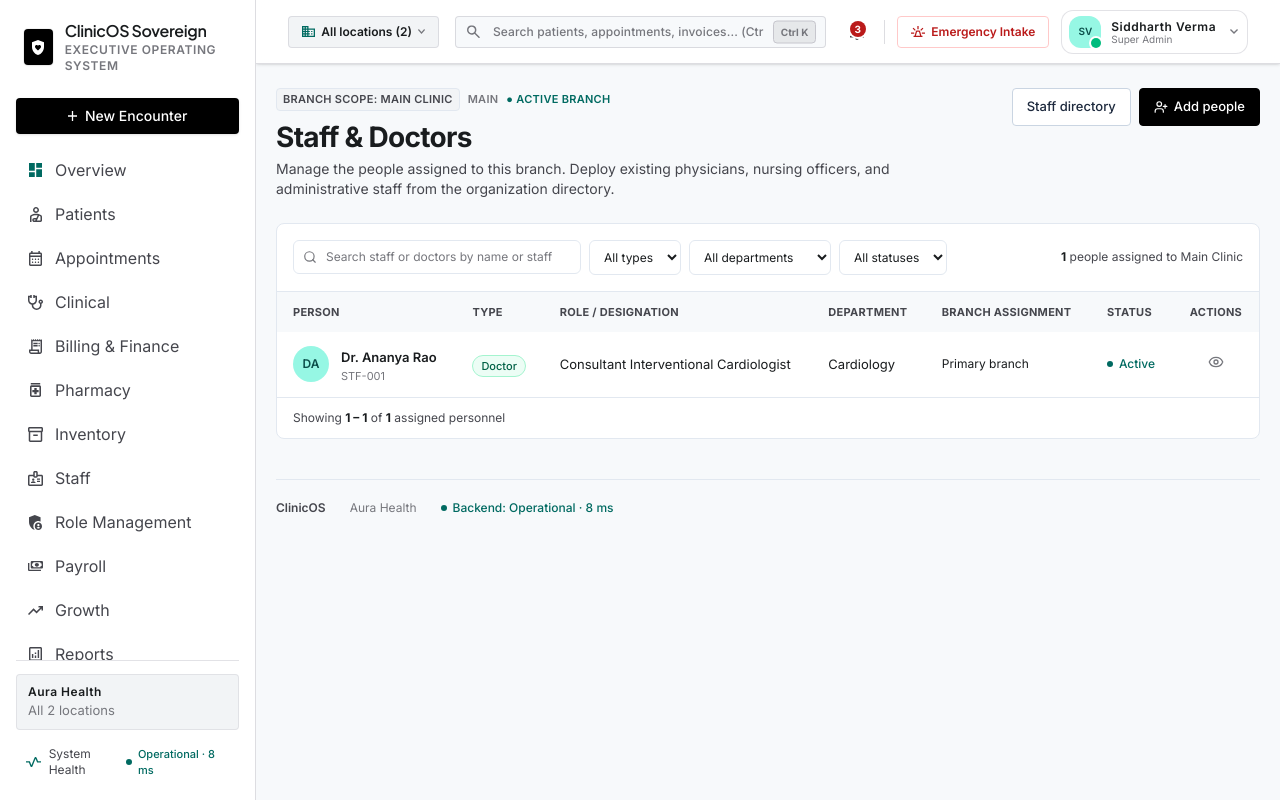
Test: branch staff page › deploys someone to the branch and keeps people already here locked
Click the button "Add people": {"x": 1199, "y": 107} left=1139, top=88, right=1260, bottom=126
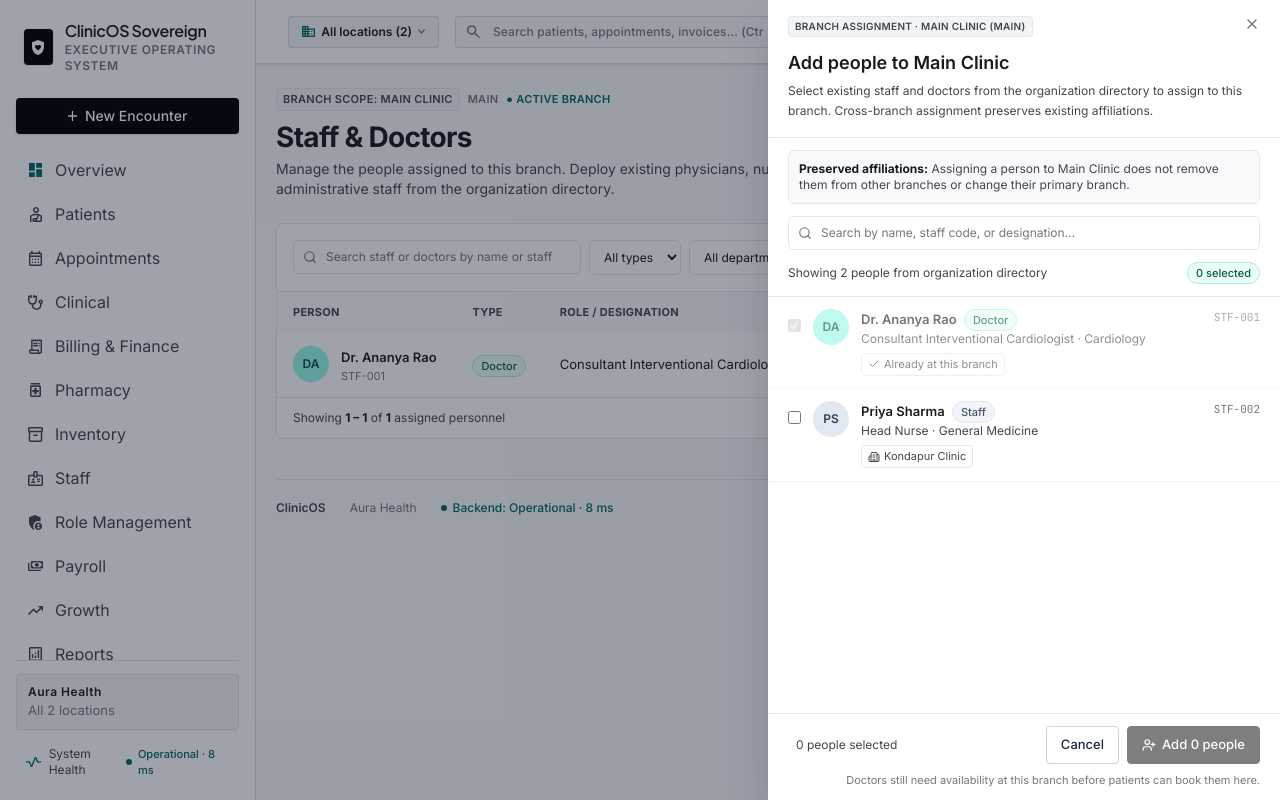
Check: the checkbox labelled "Dr. Ananya Rao" is disabled, box left=788, top=319, right=801, bottom=332
Click the checkbox labelled "Priya Sharma": {"x": 794, "y": 418} left=788, top=411, right=801, bottom=424
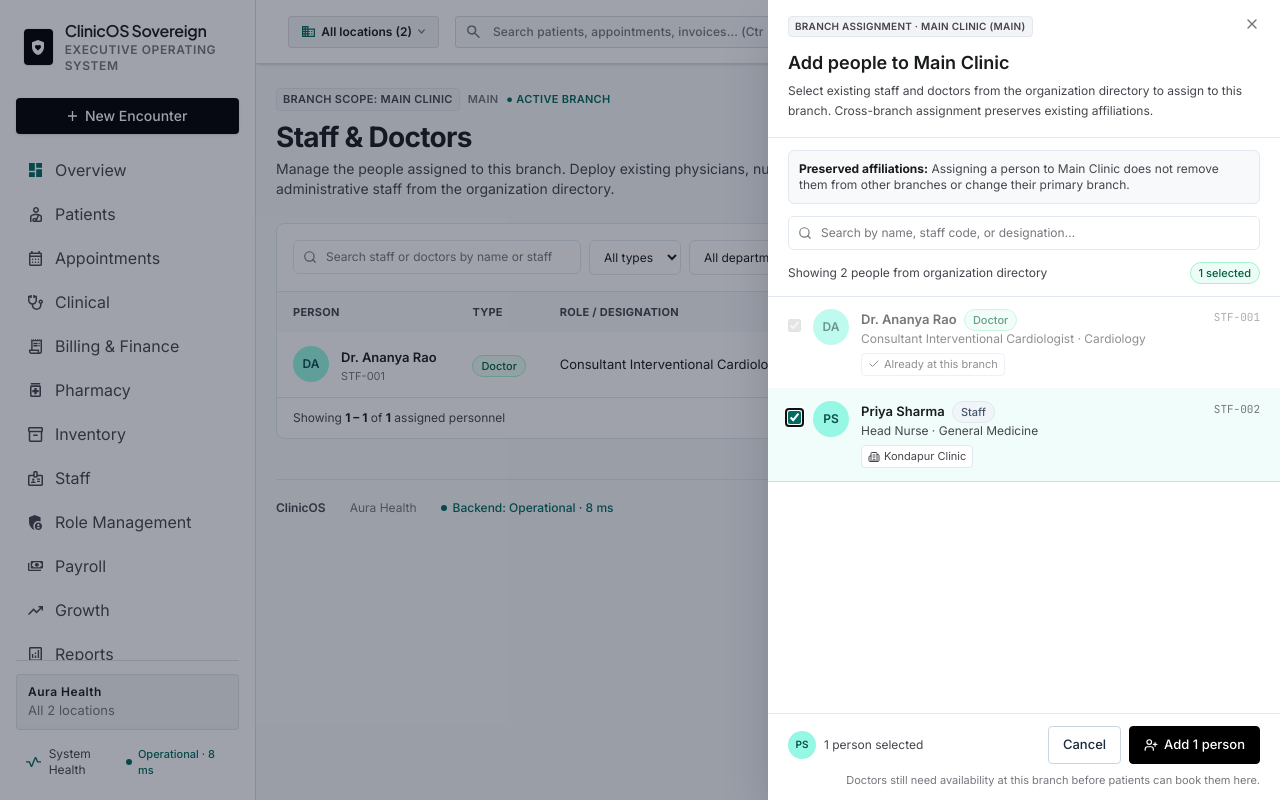
Click the button "Add 1 person": {"x": 1195, "y": 745} left=1129, top=726, right=1260, bottom=764
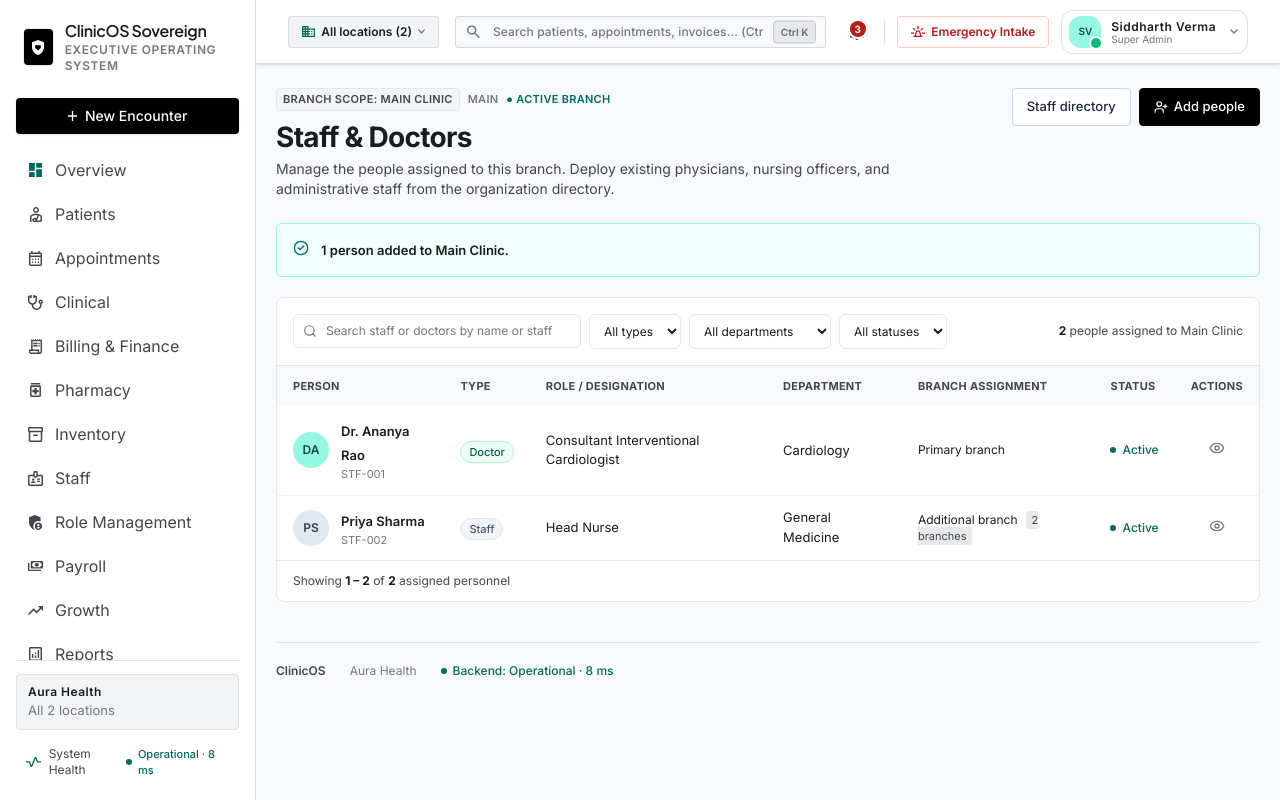
Check: the link "Priya Sharma" is shown, box left=341, top=512, right=425, bottom=528
Check: the text "1 person added to Main Clinic." is shown, box left=321, top=242, right=509, bottom=258
